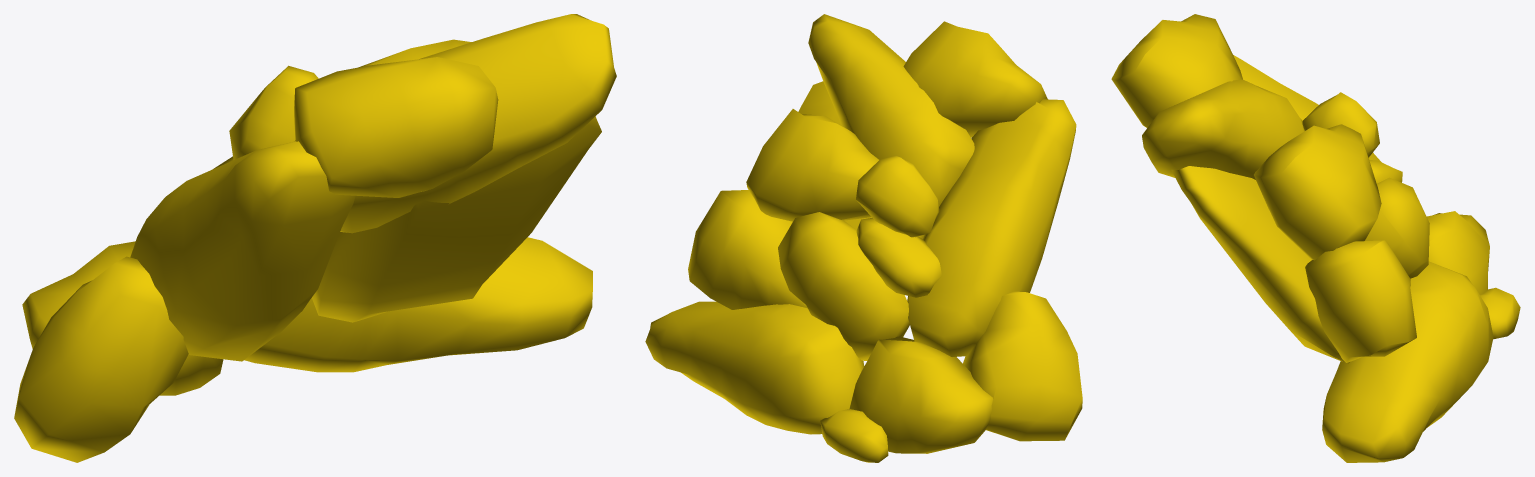
File: Rock_Small_Pile_01_Lod1.fbx
3 renders of one model, left to right at view 1: azimuth 30°, elevation 25°; view 2: azimuth 150°, elevation 25°; view 3: azimuth 270°, elevation 25°, orthographic. The views are drawn at different scales.
Parts seen in each view (by area): view 1: Rock_Small_Pile_01_Lod1; view 2: Rock_Small_Pile_01_Lod1; view 3: Rock_Small_Pile_01_Lod1.
Boxes of the visible parts, x1,y1,x2,y2 form: Rock_Small_Pile_01_Lod1: (14, 14, 616, 462); Rock_Small_Pile_01_Lod1: (645, 14, 1082, 462); Rock_Small_Pile_01_Lod1: (1111, 14, 1520, 462).
Size of the model in its own units: 3118 by 2228 by 2437.
